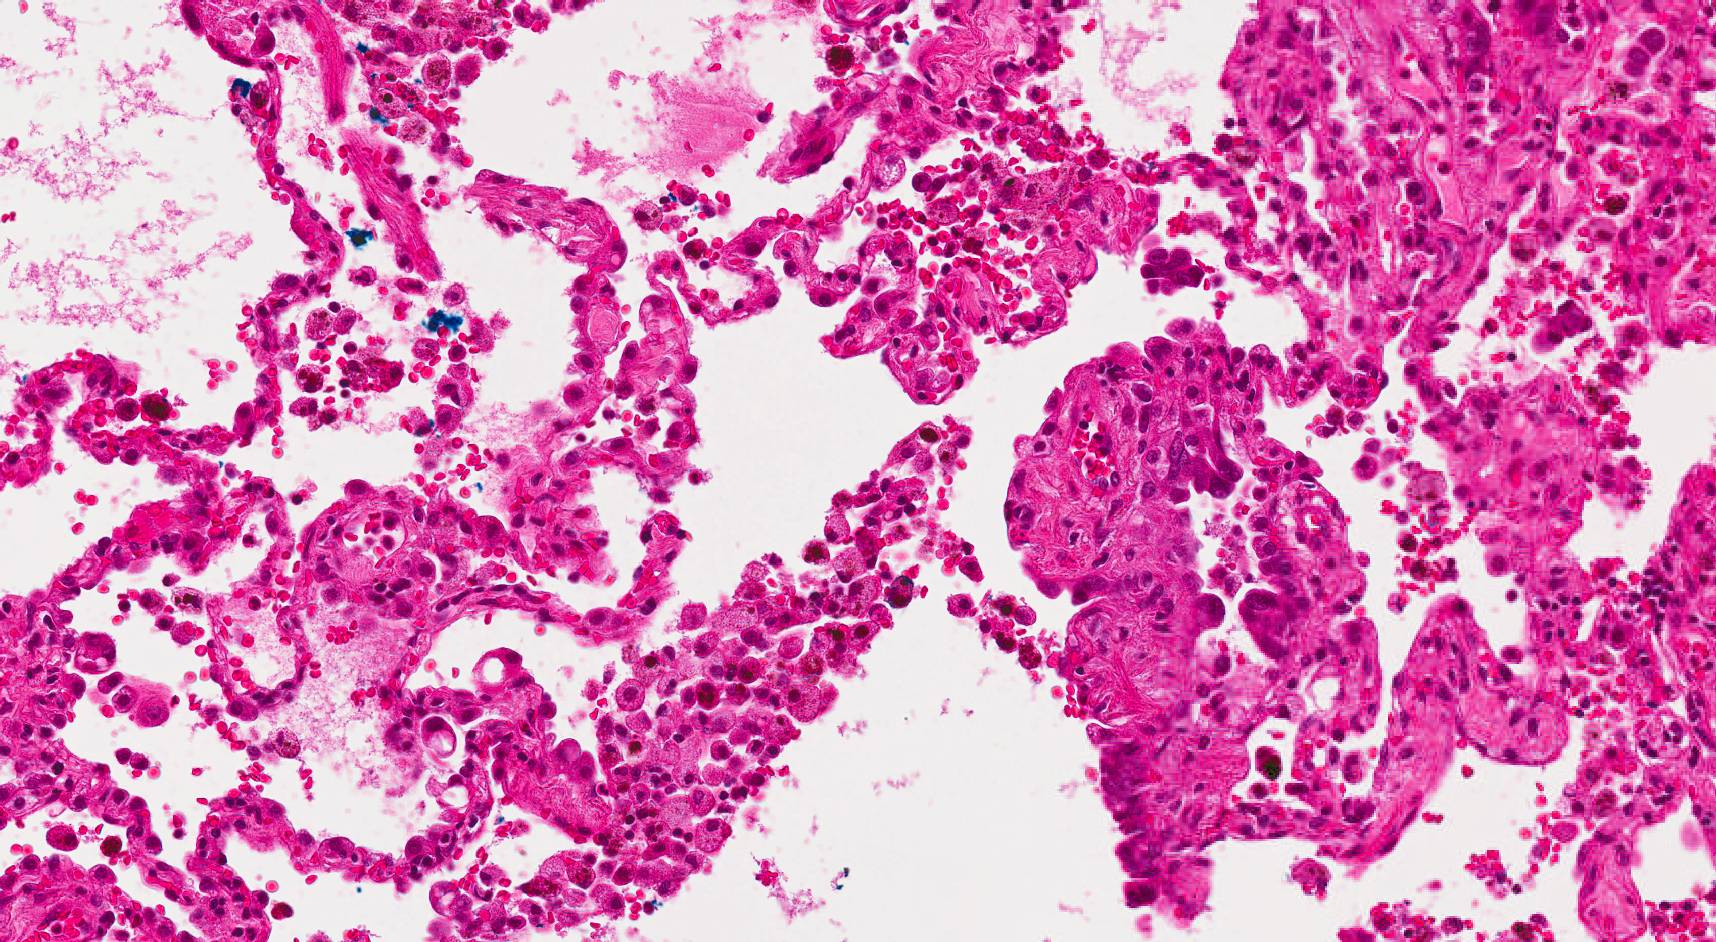stas: (1139, 246, 1211, 296)
